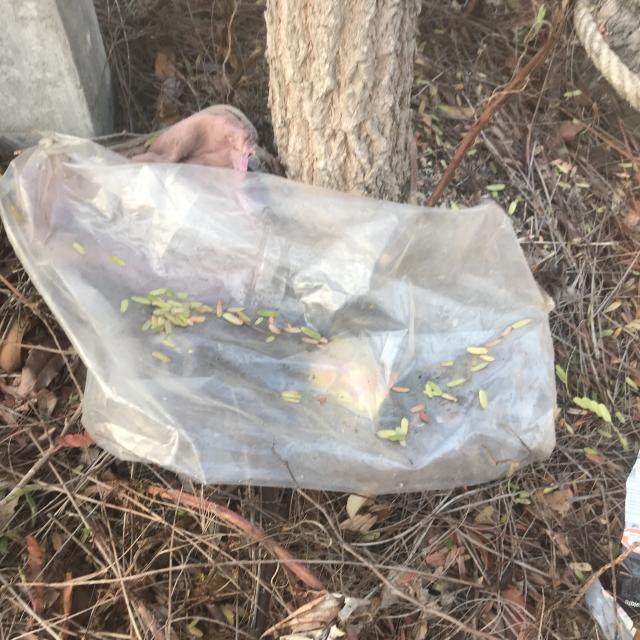Single-layer Plastic: (0, 128, 567, 497)
